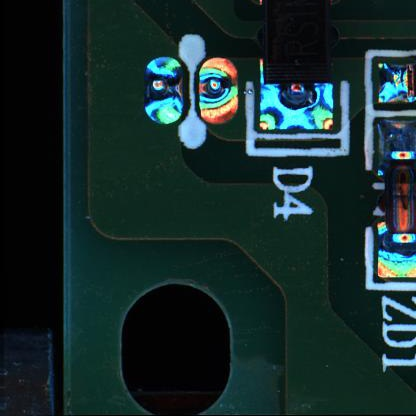spot: (139, 53, 190, 127), (194, 54, 242, 132)
